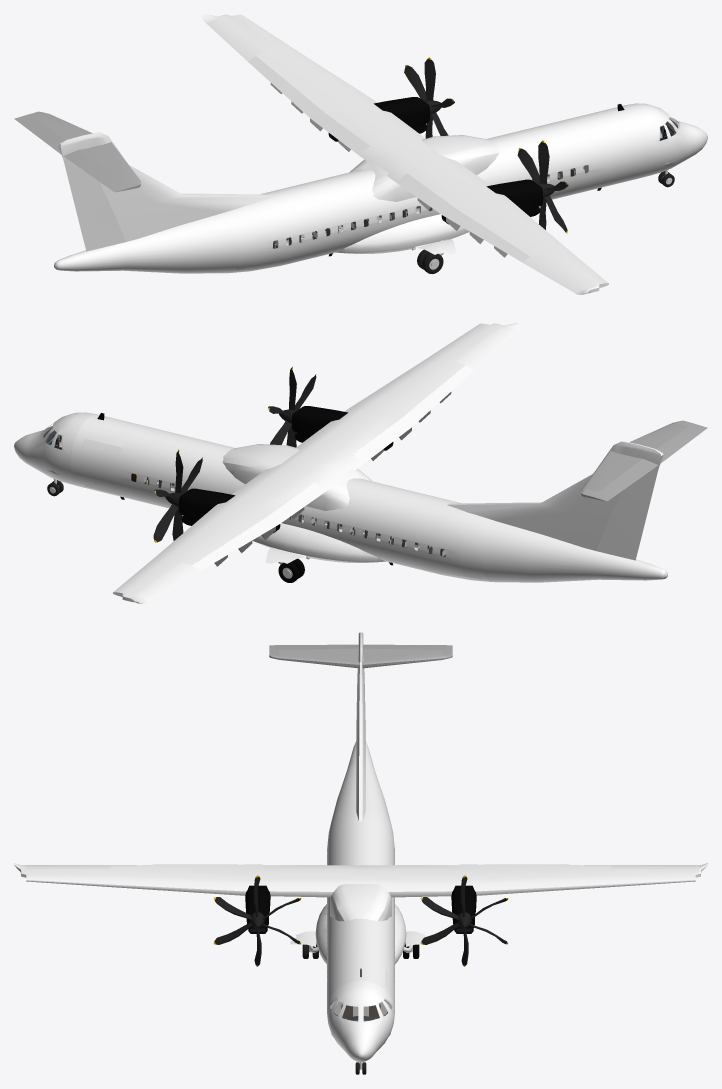
File: atr72.glb
The picture shows the model from 3 angles, top to bottom: view 1: azimuth 30°, elevation 25°; view 2: azimuth 150°, elevation 25°; view 3: azimuth 270°, elevation 25°; orthographic projection. The views are drawn at different scales.
Parts seen in each view (by area): view 1: References, Cube_1, flaps_19, rudder_25, Cylinder_007_17, Cylinder_001_2, Cube_003_3, elevator_20, rightProp_15, leftProp_13, Cube_004_4, Cube_005_5 (+2 smaller); view 2: References (×2), Cube_1, flaps_19, rudder_25, Cylinder_007_17, Cylinder_001_2, Cube_003_3, elevator_20, leftProp_13, Cube_005_5, Cube_004_4, rightProp_15 (+3 smaller); view 3: Cube_1, References, Cube_003_3, Cylinder_007_17, leftProp_13, rightProp_15, elevator_20, Cylinder_001_2, Cube_004_4, Cube_005_5.
Boxes of the visible parts, x1,y1,x2,y2 form: References: (56,103,707,273); Cube_1: (201,14,608,294); flaps_19: (248,56,529,261); rudder_25: (63,159,125,251); Cylinder_007_17: (349,135,499,201); Cylinder_001_2: (336,214,469,253); Cube_003_3: (34,111,140,187); elevator_20: (14,111,138,192); rightProp_15: (517,140,568,233); leftProp_13: (404,57,454,138); Cube_004_4: (441,179,542,224); Cube_005_5: (328,97,429,141); References (×2): (14,412,665,582); Cube_1: (113,323,520,603); flaps_19: (192,365,473,570); rudder_25: (596,468,658,560); Cylinder_007_17: (222,444,371,510); Cylinder_001_2: (252,523,385,562); Cube_003_3: (581,420,687,496); elevator_20: (583,420,707,501); leftProp_13: (153,449,202,542); Cube_005_5: (179,488,280,533); Cube_004_4: (292,406,393,450); rightProp_15: (268,366,316,447); Cube_1: (14,863,707,897); References: (327,632,394,1062); Cube_003_3: (269,648,452,668); Cylinder_007_17: (330,884,391,921); leftProp_13: (420,875,508,966); rightProp_15: (213,875,301,966); elevator_20: (269,644,452,655); Cylinder_001_2: (315,904,406,963); Cube_004_4: (245,885,270,933); Cube_005_5: (451,885,476,933).
Size of the model in its own units: 0.4856 by 0.1383 by 0.4905.
Materials: 81 (2 with a texture image).
